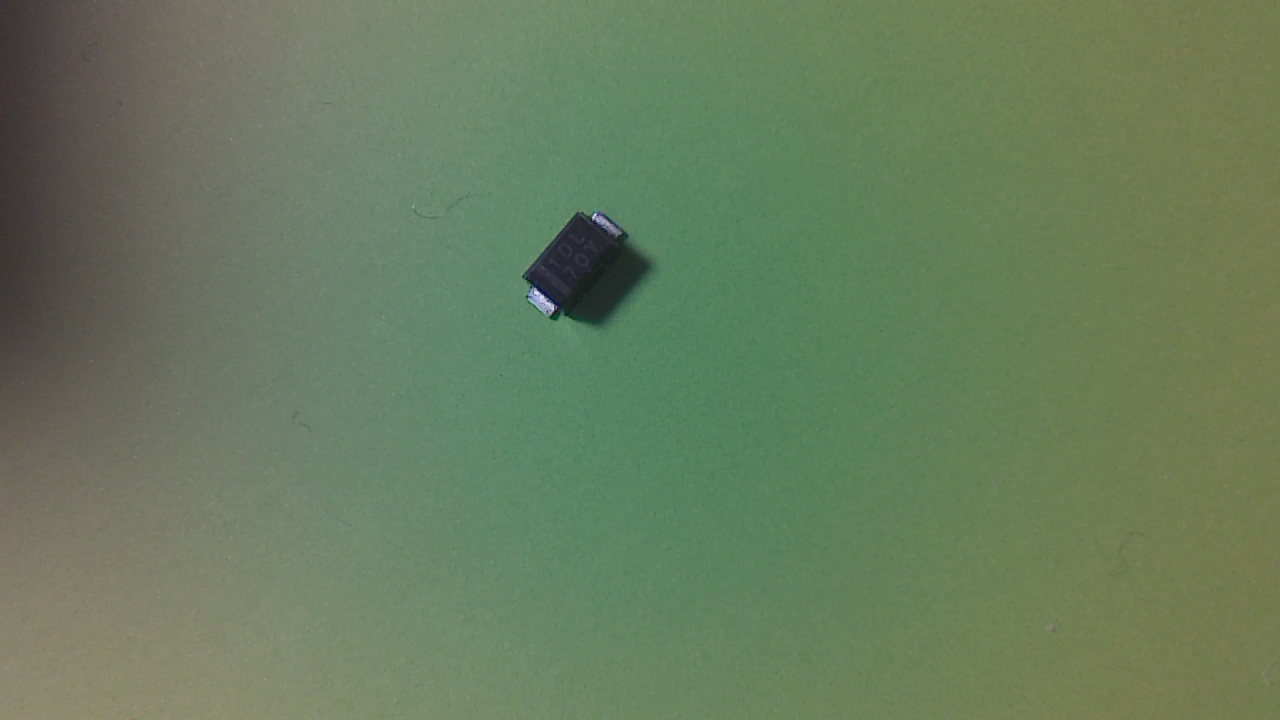Diode: (525, 211, 634, 326)
